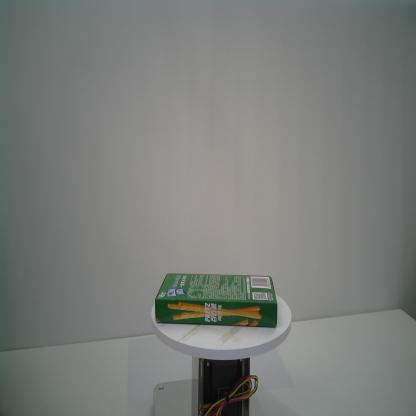Dessert: (154, 272, 278, 328)
